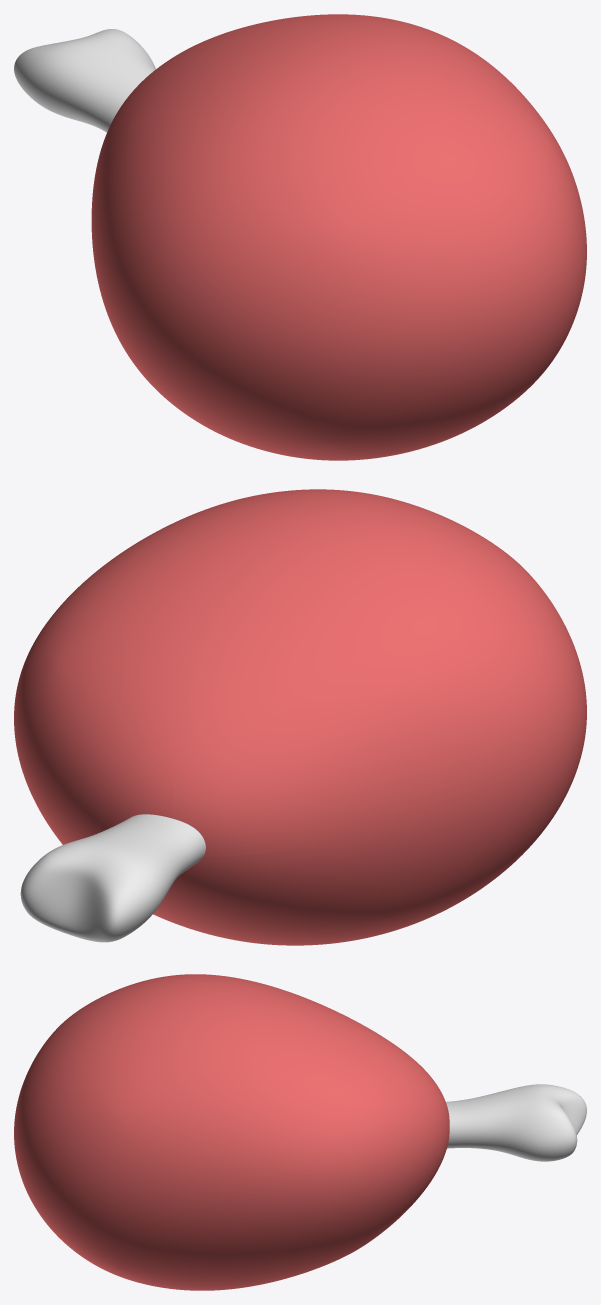
Rendered from meat.fbx.
3 renders of one model, top to bottom at view 1: azimuth 30°, elevation 25°; view 2: azimuth 150°, elevation 25°; view 3: azimuth 270°, elevation 25°, orthographic. The views are drawn at different scales.
Visible parts, largest first — view 1: Cube.002; view 2: Cube.002; view 3: Cube.002.
Boxes of the visible parts, <box> form: Cube.002: <box>14,14,586,460</box>; Cube.002: <box>14,489,586,945</box>; Cube.002: <box>14,974,586,1290</box>.
Bounding box in the file's own units: 1019 × 840 × 1565.
